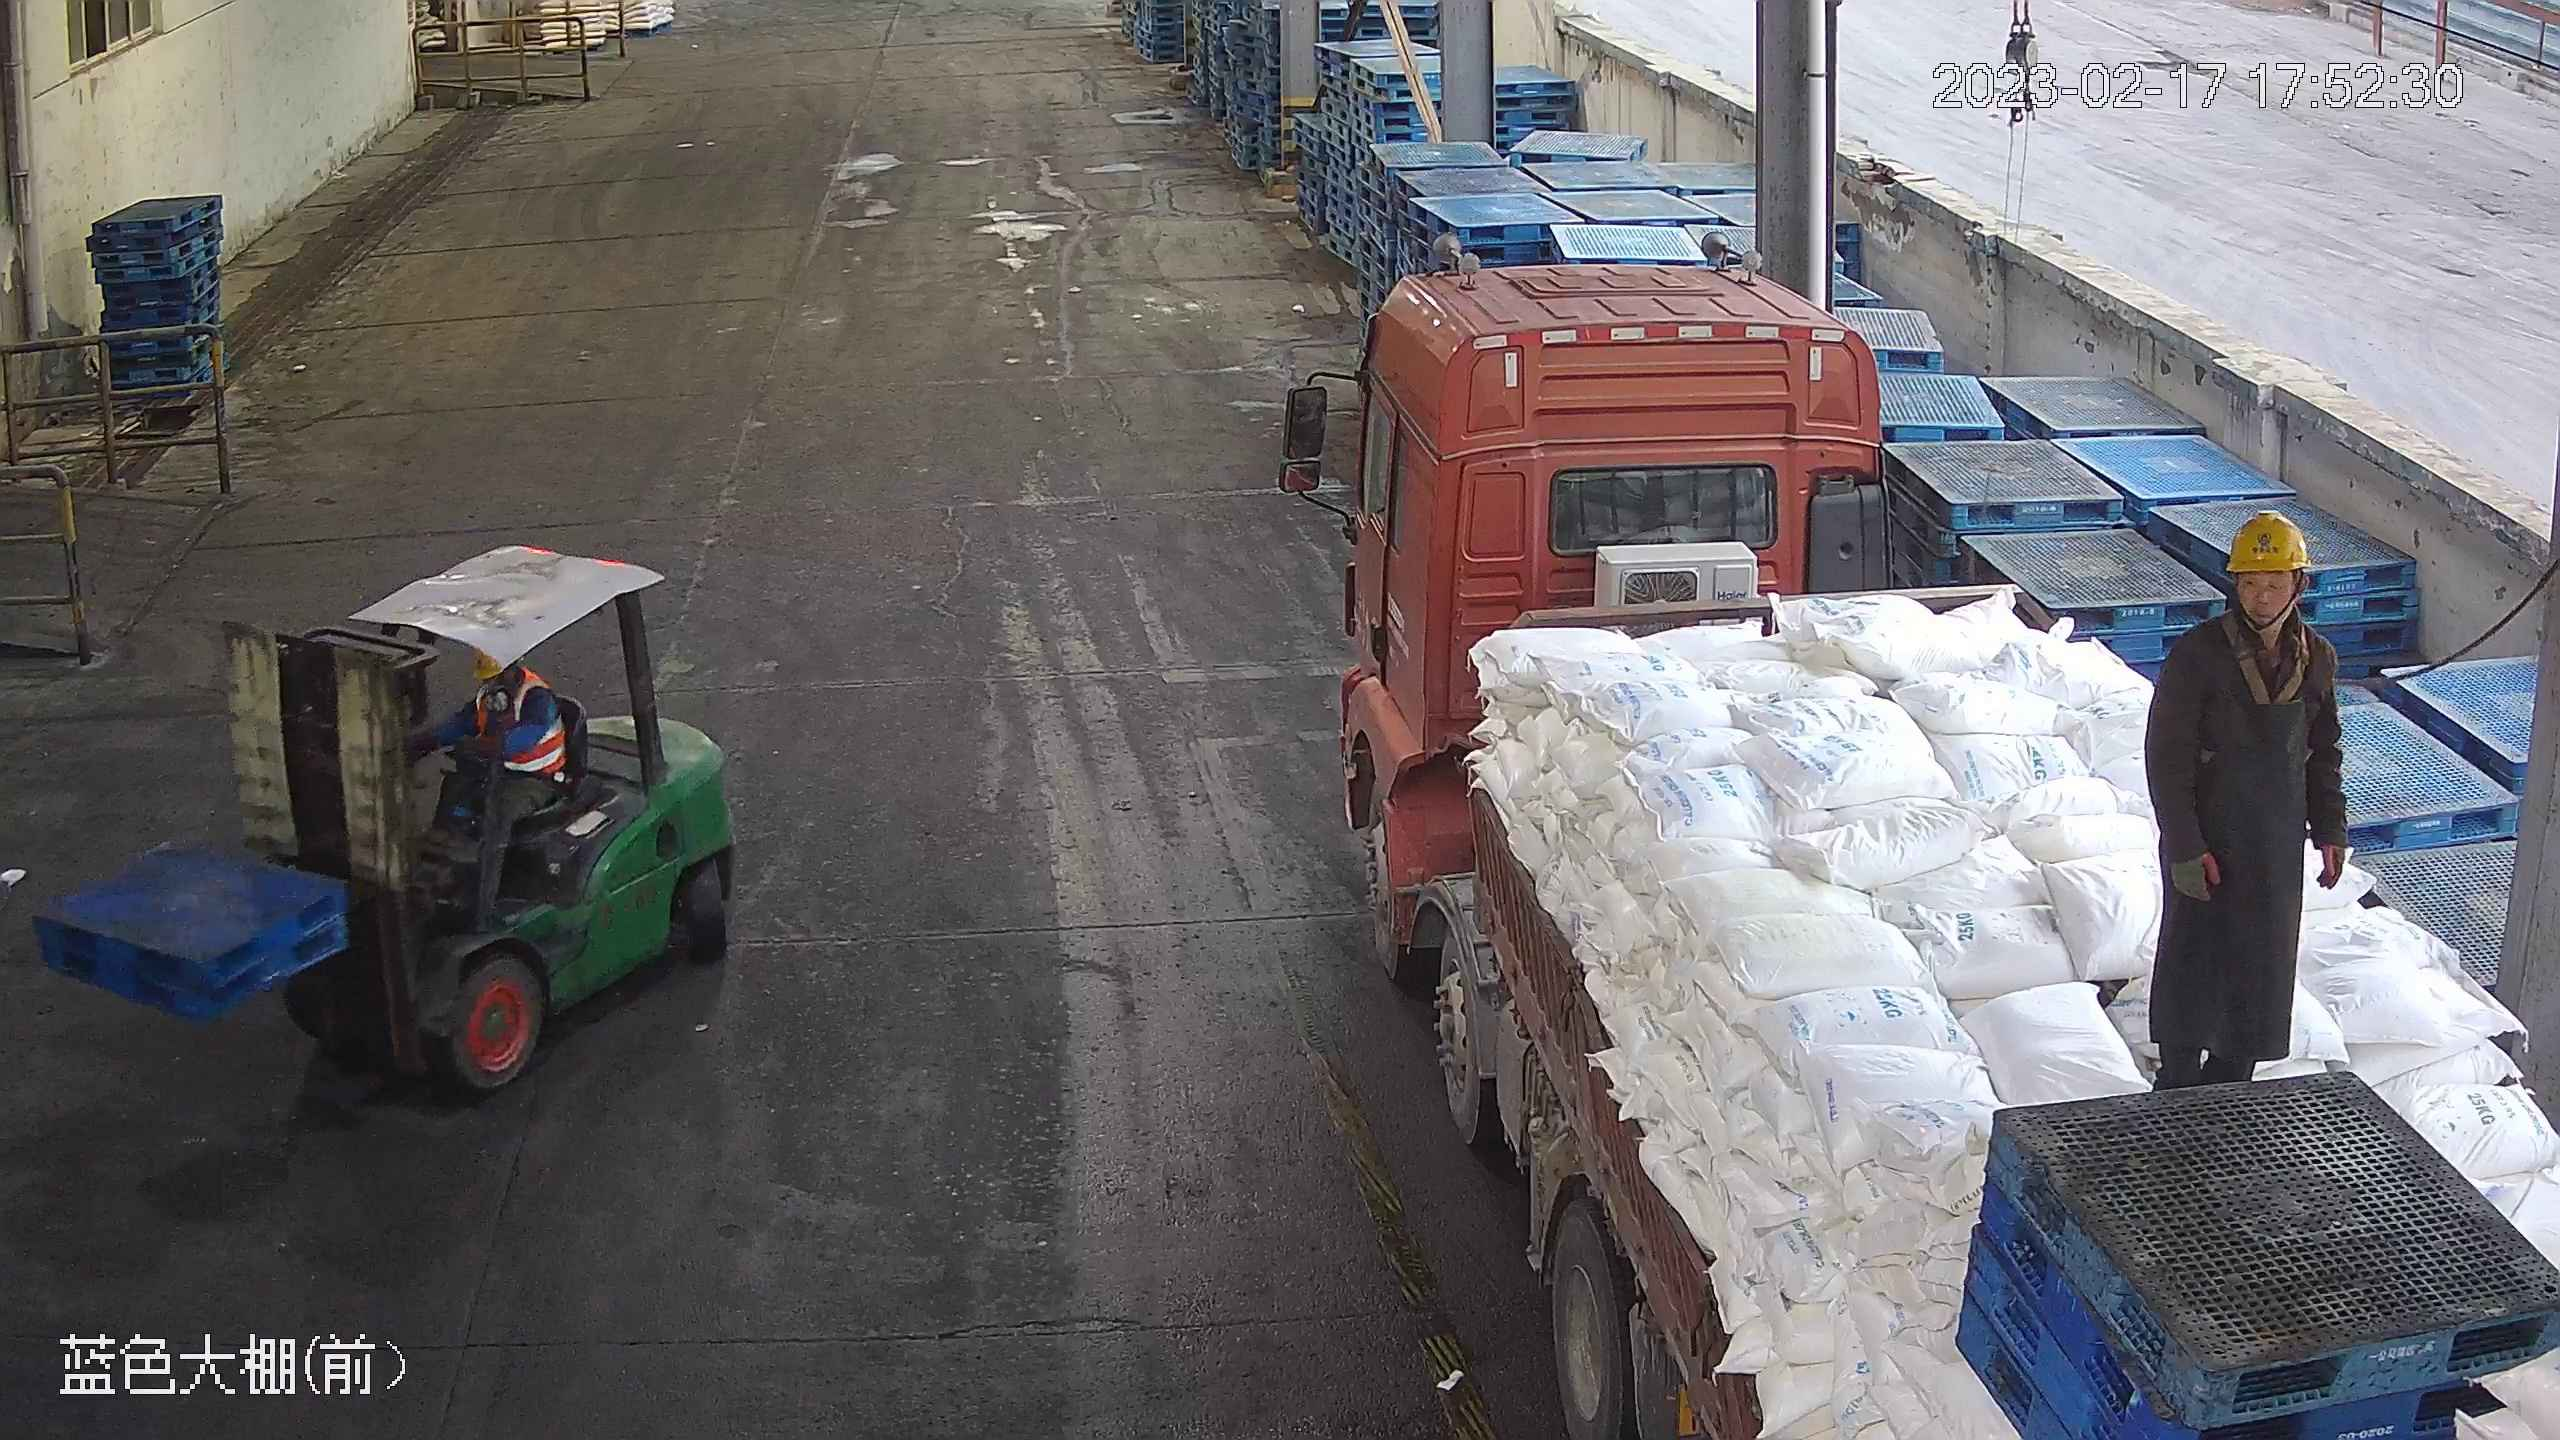belt: (2211, 599, 2316, 711)
head: (2154, 506, 2337, 688)
helmet: (2223, 507, 2312, 573)
people: (2139, 507, 2349, 1083)
truck: (1278, 230, 2557, 1440)
